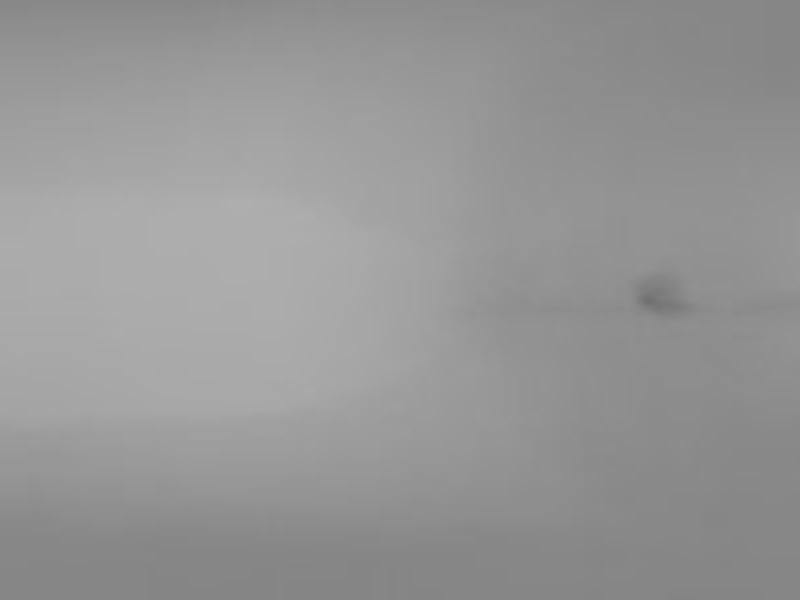defect: (641, 265, 700, 321)
